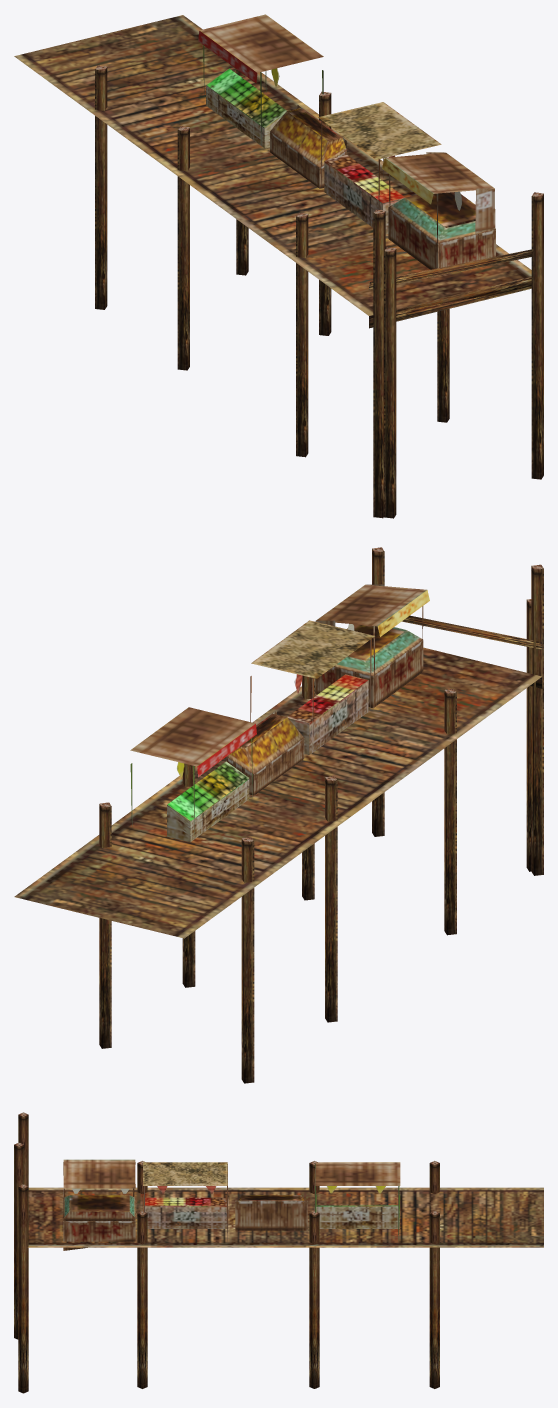
File: Civilian - Civilian Building - Boat Docks 02 - CBNBoatDo2.glb
3 views of the same model, one above another, from view 1: azimuth 30°, elevation 25°; view 2: azimuth 150°, elevation 25°; view 3: azimuth 270°, elevation 25° (orthographic). The views are drawn at different scales.
Visible parts, largest first — view 1: CBNBOATDO2; view 2: CBNBOATDO2; view 3: CBNBOATDO2.
Part boxes in pixels (bbox=[...]): CBNBOATDO2: bbox=[14, 14, 543, 518]; CBNBOATDO2: bbox=[14, 547, 543, 1083]; CBNBOATDO2: bbox=[14, 1112, 543, 1393].
Bounding box in the file's own units: 24.12 × 40.6 × 88.37.
Materials: 1 (1 with a texture image).
